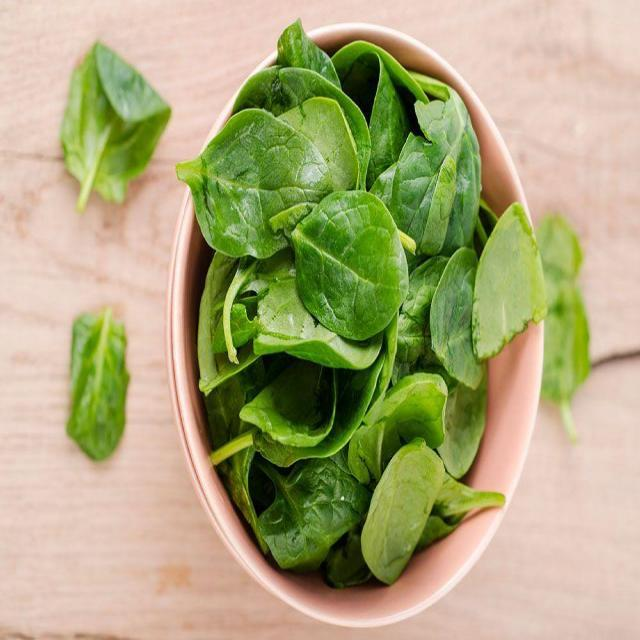Spinach: (169, 6, 551, 610)
